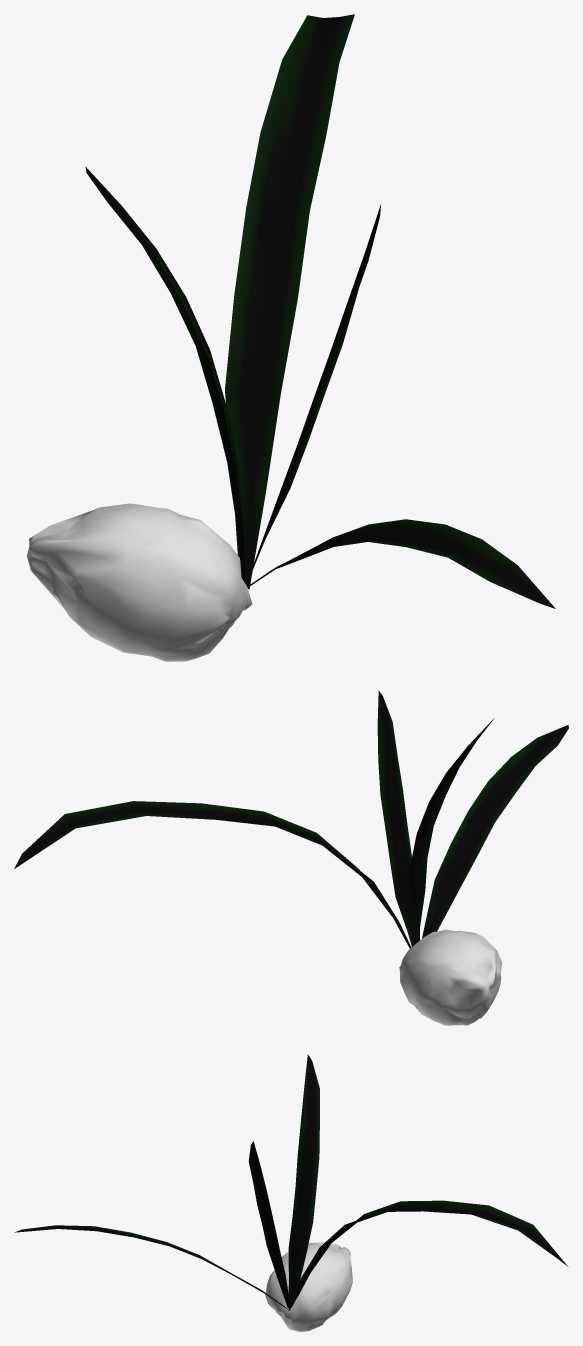
The model's file is YoungCoconutPalm01_afsTREE_xlprl15_xmw05_xlb05_xafs.fbx.
The picture shows the model from 3 angles, top to bottom: view 1: azimuth 30°, elevation 25°; view 2: azimuth 150°, elevation 25°; view 3: azimuth 270°, elevation 25°; orthographic projection. The views are drawn at different scales.
Parts seen in each view (by area): view 1: LargeTropicalLeaf_xw03_xt02_xlp02_xp05, trunk_youngCoconutPalm01_xw00_xt00_xlp00, LargeTropicalLeaf_xw02_xt01_xlp00_xp08, LargeTropicalLeaf_xw04_xt02_xlp03_xp10, LargeTropicalLea_xw04_xt02_xlp02_xp02; view 2: trunk_youngCoconutPalm01_xw00_xt00_xlp00, LargeTropicalLeaf_xw02_xt01_xlp00_xp08, LargeTropicalLeaf_xw03_xt02_xlp02_xp05, LargeTropicalLea_xw04_xt02_xlp02_xp02, LargeTropicalLeaf_xw04_xt02_xlp03_xp10; view 3: trunk_youngCoconutPalm01_xw00_xt00_xlp00, LargeTropicalLeaf_xw04_xt02_xlp03_xp10, LargeTropicalLeaf_xw03_xt02_xlp02_xp05, LargeTropicalLea_xw04_xt02_xlp02_xp02, LargeTropicalLeaf_xw02_xt01_xlp00_xp08.
Boxes of the visible parts, <box> form: LargeTropicalLeaf_xw03_xt02_xlp02_xp05: <box>225,14,354,589</box>; trunk_youngCoconutPalm01_xw00_xt00_xlp00: <box>27,503,252,661</box>; LargeTropicalLeaf_xw02_xt01_xlp00_xp08: <box>247,519,555,608</box>; LargeTropicalLeaf_xw04_xt02_xlp03_xp10: <box>85,167,245,584</box>; LargeTropicalLea_xw04_xt02_xlp02_xp02: <box>246,203,381,585</box>; trunk_youngCoconutPalm01_xw00_xt00_xlp00: <box>399,929,502,1025</box>; LargeTropicalLeaf_xw02_xt01_xlp00_xp08: <box>422,725,568,938</box>; LargeTropicalLeaf_xw03_xt02_xlp02_xp05: <box>14,801,411,948</box>; LargeTropicalLea_xw04_xt02_xlp02_xp02: <box>377,690,413,946</box>; LargeTropicalLeaf_xw04_xt02_xlp03_xp10: <box>408,718,494,944</box>; trunk_youngCoconutPalm01_xw00_xt00_xlp00: <box>265,1242,352,1331</box>; LargeTropicalLeaf_xw04_xt02_xlp03_xp10: <box>288,1054,319,1306</box>; LargeTropicalLeaf_xw03_xt02_xlp02_xp05: <box>288,1200,567,1310</box>; LargeTropicalLea_xw04_xt02_xlp02_xp02: <box>248,1141,290,1309</box>; LargeTropicalLeaf_xw02_xt01_xlp00_xp08: <box>14,1225,289,1310</box>.
Size of what is drawn, in the model's own units: 1.43 by 2.56 by 1.29.
